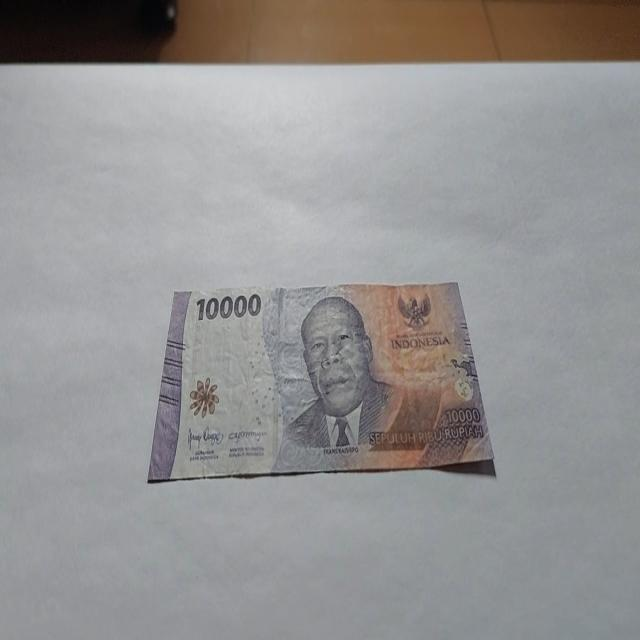sepuluh ribu rupiah: (147, 280, 496, 484)
